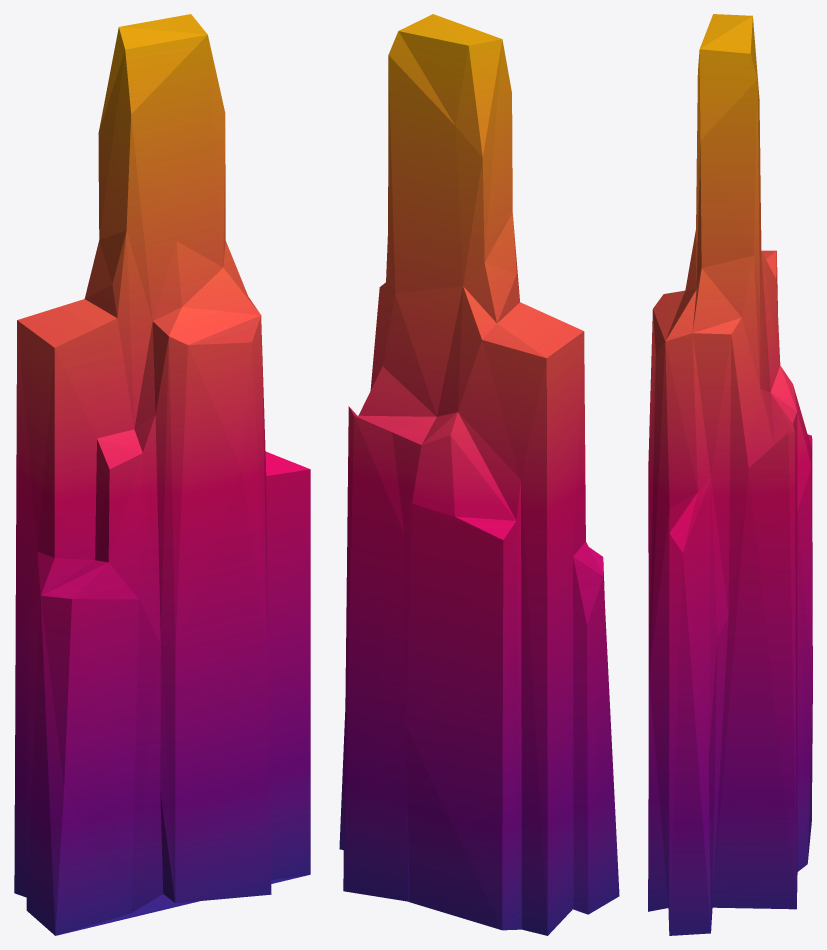
The model's file is cristales01.fbx.
3 views of the same model, side by side, from view 1: azimuth 30°, elevation 25°; view 2: azimuth 150°, elevation 25°; view 3: azimuth 270°, elevation 25° (orthographic).
Visible parts, largest first — view 1: cristal06; view 2: cristal06; view 3: cristal06.
Boxes of the visible parts, x1,y1,x2,y2 form: cristal06: [14, 14, 310, 935]; cristal06: [339, 14, 619, 935]; cristal06: [648, 14, 812, 935].
Size of the model in its own units: 680 by 2163 by 381.
Materials: 1 (1 with a texture image).
